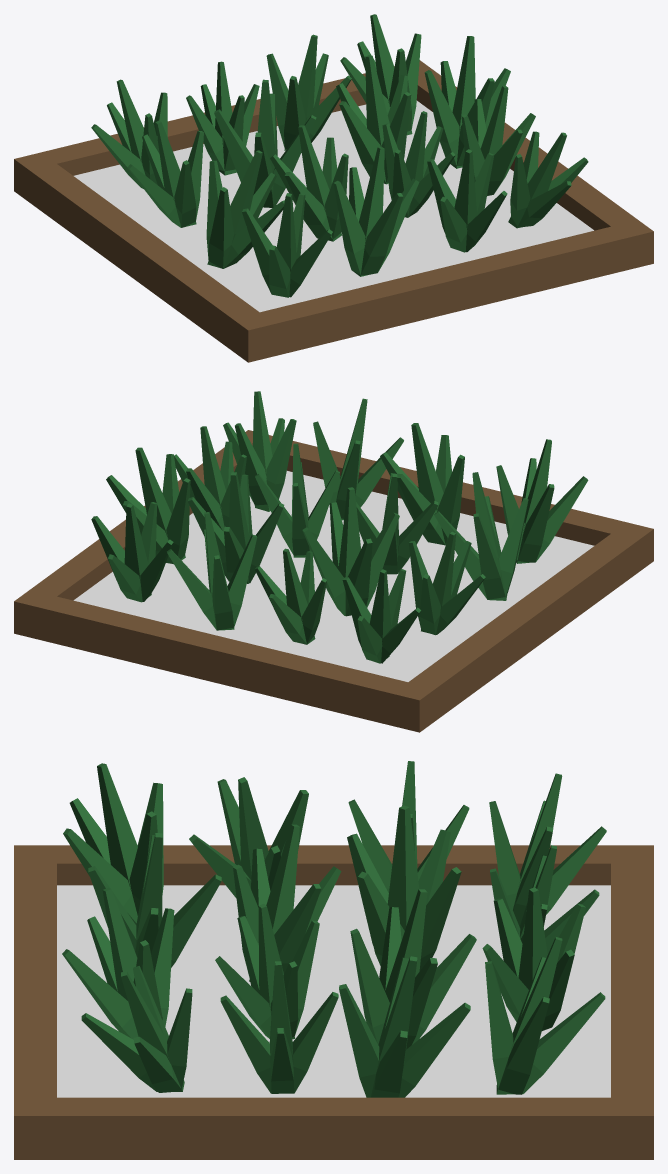
The picture shows the model from 3 angles, top to bottom: view 1: azimuth 30°, elevation 25°; view 2: azimuth 150°, elevation 25°; view 3: azimuth 270°, elevation 25°; orthographic projection. The views are drawn at different scales.
Visible parts, largest first — view 1: Wheat2.001; view 2: Wheat2.001; view 3: Wheat2.001.
Part boxes in pixels (bbox=[...]): Wheat2.001: bbox=[14, 14, 653, 362]; Wheat2.001: bbox=[14, 391, 653, 732]; Wheat2.001: bbox=[14, 761, 653, 1159].
Bounding box in the file's own units: 440 × 143 × 440.
